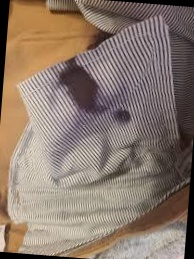ink: (59, 59, 100, 109), (115, 106, 132, 123)
